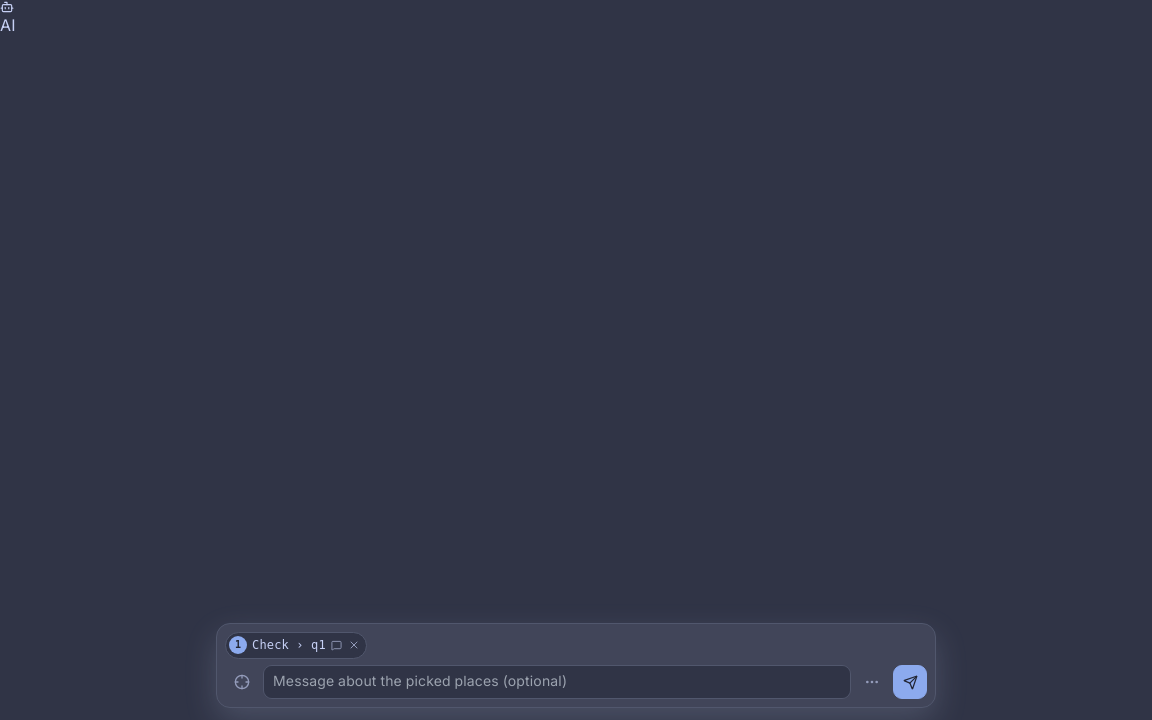
Test: AssistantDock with the Pick tray › opens the connection settings when no profile is set up, keeping the tray
The image size is (1152, 720).
Click the button with test id "pick-send": (910, 682) [893,665,927,699]
(page scrolled)
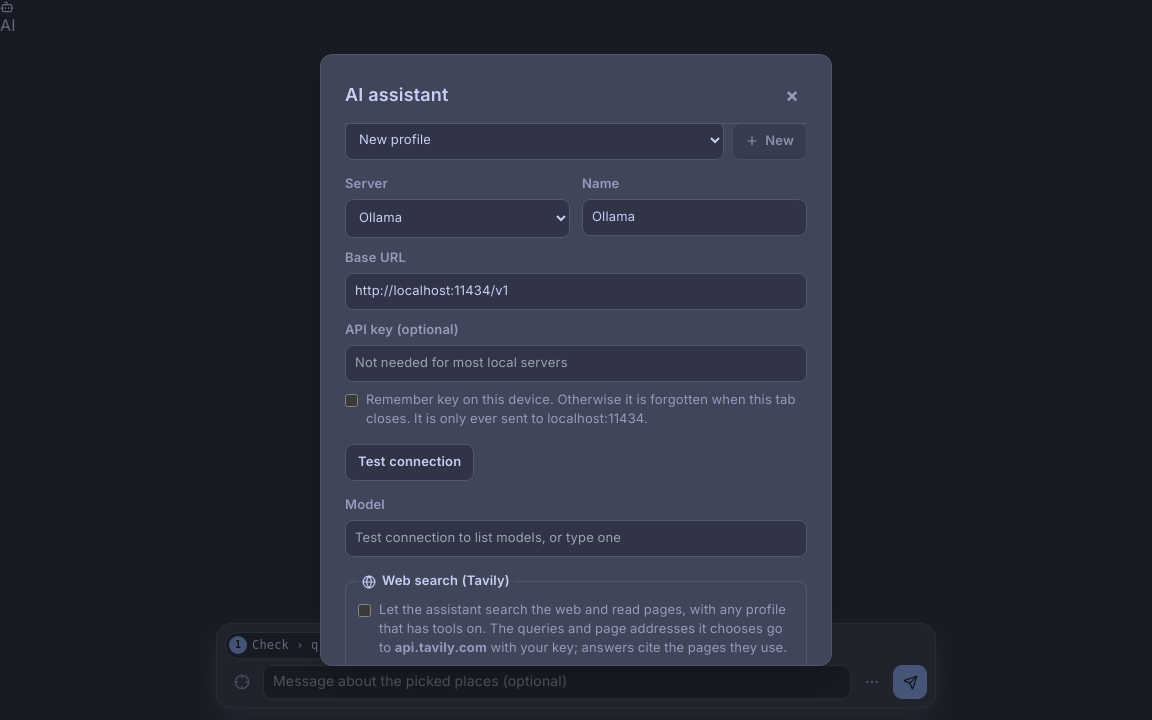
Check: the number of list items with test id "pick-entry" is 1, box [225,632,367,659]
Check: the form with test id "ai-settings" is shown, box [345,124,807,665]
